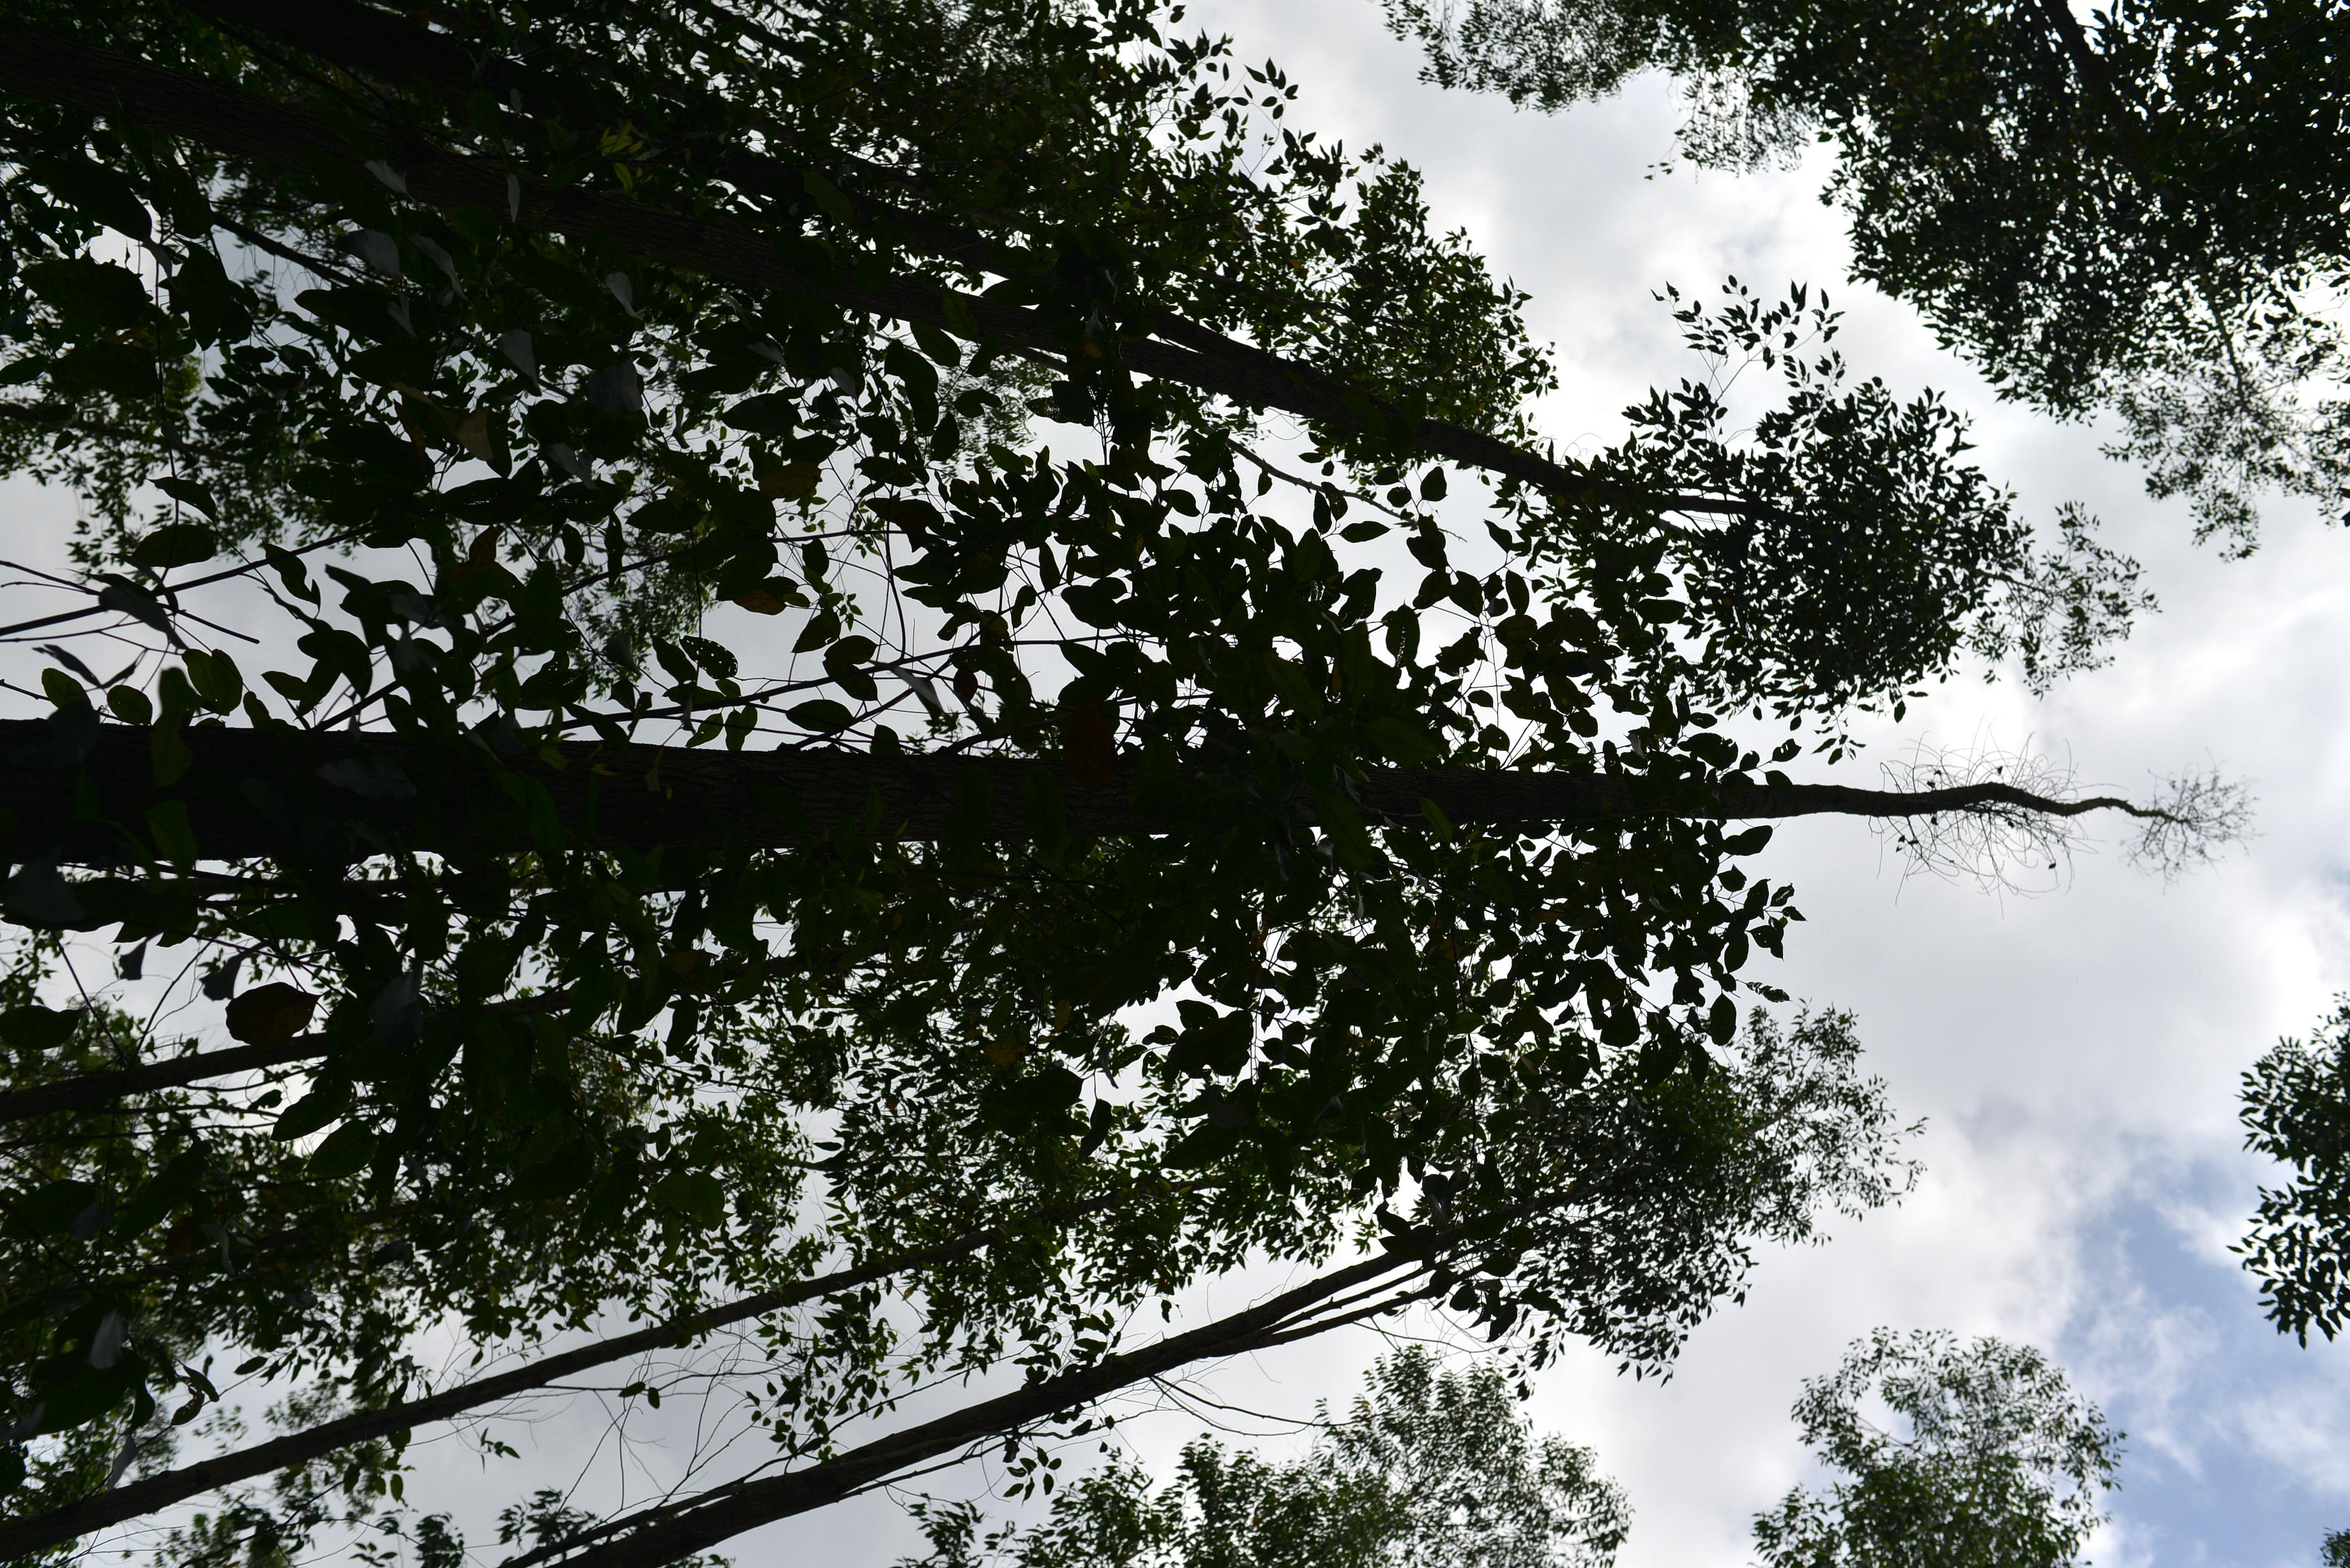Wither Tree Parts: (1885, 728, 2270, 913)
